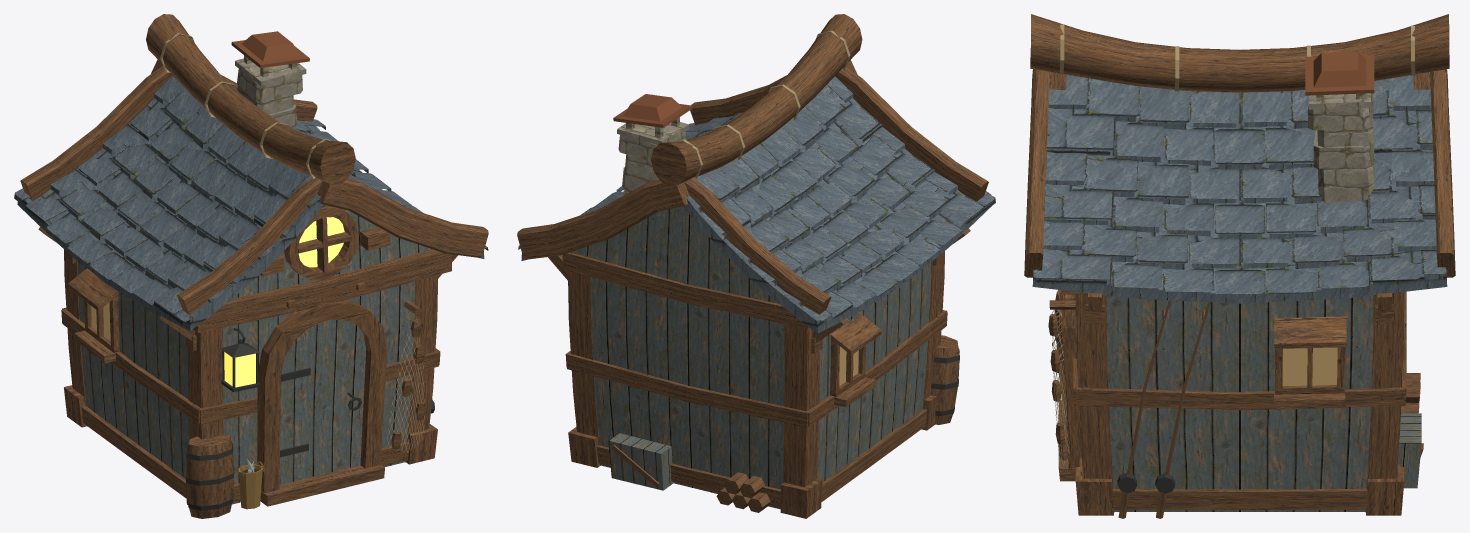
Rendered from house-lake-01.glb.
3 renders of one model, left to right at view 1: azimuth 30°, elevation 25°; view 2: azimuth 150°, elevation 25°; view 3: azimuth 270°, elevation 25°, orthographic. The views are drawn at different scales.
Parts seen in each view (by area): view 1: shingles, body, barge, belts, door, ridge, doortrim, posts, roofbase, chimney, barrel, roundframe (+15 smaller); view 2: body, shingles, barge, belts, posts, ridge, roofbase, chimney, footings, crate, sideframe_-1, barrel (+5 smaller); view 3: shingles, body, ridge, roofbase, belts, posts, barge, chimney, footings, chimneycap, sideframe_1, doortrim (+11 smaller).
Boxes of the visible parts, bbox=[...] form: shingles: bbox=[14, 76, 488, 325]; body: bbox=[77, 209, 431, 504]; barge: bbox=[20, 59, 488, 314]; belts: bbox=[61, 249, 451, 502]; door: bbox=[279, 319, 366, 484]; ridge: bbox=[146, 14, 355, 184]; doortrim: bbox=[257, 299, 387, 493]; posts: bbox=[64, 249, 438, 462]; roofbase: bbox=[17, 84, 484, 330]; chimney: bbox=[235, 55, 306, 128]; barrel: bbox=[186, 434, 233, 518]; roundframe: bbox=[284, 205, 358, 280]; body: bbox=[572, 206, 931, 509]; shingles: bbox=[518, 76, 995, 324]; barge: bbox=[517, 60, 988, 314]; belts: bbox=[562, 252, 947, 507]; posts: bbox=[568, 251, 944, 487]; ridge: bbox=[651, 14, 862, 185]; roofbase: bbox=[521, 85, 991, 333]; chimney: bbox=[617, 117, 688, 194]; footings: bbox=[568, 395, 936, 518]; crate: bbox=[608, 433, 673, 490]; sideframe_-1: bbox=[830, 339, 875, 407]; barrel: bbox=[930, 335, 959, 424]; shingles: bbox=[1033, 75, 1445, 298]; body: bbox=[1106, 295, 1373, 511]; ridge: bbox=[1030, 14, 1449, 92]; roofbase: bbox=[1032, 72, 1447, 303]; belts: bbox=[1062, 290, 1406, 509]; posts: bbox=[1075, 292, 1404, 512]; barge: bbox=[1024, 69, 1455, 277]; chimney: bbox=[1308, 93, 1375, 202]; footings: bbox=[1075, 467, 1404, 515]; chimneycap: bbox=[1305, 51, 1374, 95]; sideframe_1: bbox=[1274, 347, 1345, 409]; doortrim: bbox=[1058, 290, 1081, 468].
Size of the model in its own units: 2.62 by 2.95 by 2.67.
14 materials, 6 textured.
